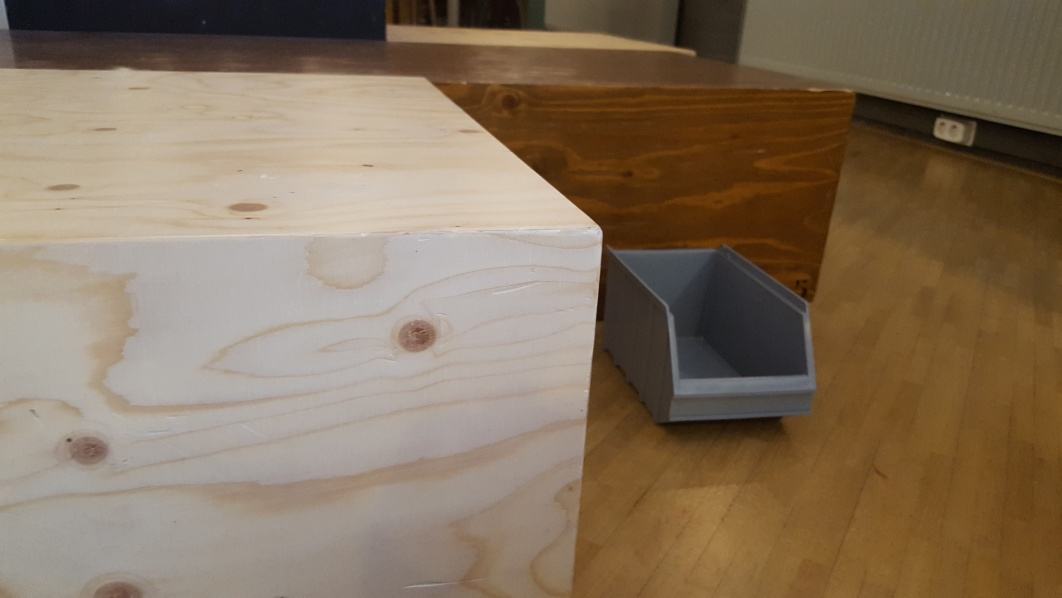tray: (603, 239, 819, 427)
